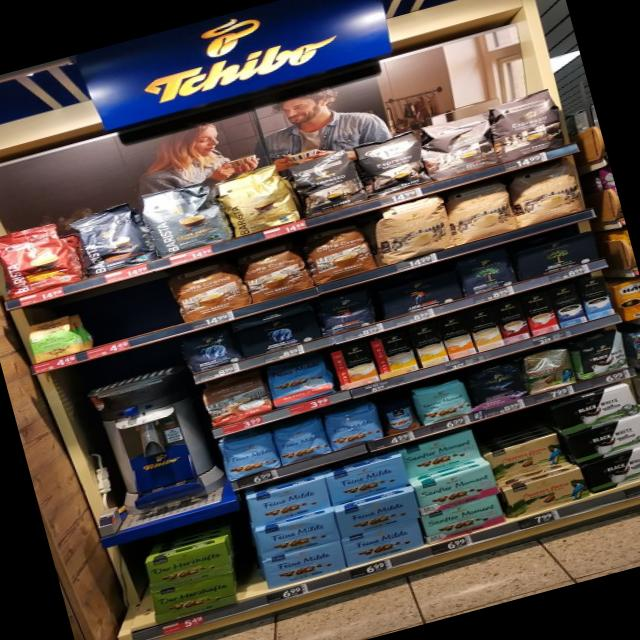AB Bohne: (176, 326, 242, 375)
AB Gemahlen: (233, 308, 325, 360)
Athiopien Bohne: (20, 312, 86, 365)
BM Bohne: (454, 245, 518, 298)
BM Gemahlen: (512, 230, 604, 280)
BW Bohne: (570, 328, 632, 380)
BW Gemahlen: (544, 382, 640, 437), (564, 412, 640, 466), (582, 442, 640, 493)
Barista CB: (211, 160, 304, 240)
Barista CC: (134, 174, 233, 261)
Barista Espresso: (64, 200, 154, 280)
Barista Kolumbien: (0, 217, 83, 300)
C Fino Bohne: (464, 358, 530, 412)
CC Mild: (506, 154, 590, 228), (372, 192, 457, 264), (442, 176, 520, 247)
CC Vollmundig: (198, 372, 274, 428)
CC Vollmundig 36 Pads: (164, 255, 250, 322), (300, 217, 380, 286), (234, 237, 314, 305)
Colombia BB Bohne: (520, 343, 580, 396)
Colombia BB Gemahlen: (504, 468, 589, 518), (483, 433, 568, 482)
Empty Shelf: (78, 283, 181, 348)
Espresso Aromatisch: (419, 108, 502, 182), (488, 89, 568, 162)
Espresso Kraftig: (351, 126, 434, 200), (284, 147, 367, 220)
FM 36 Pads: (262, 351, 338, 409)
FM Bohne: (217, 428, 282, 482), (321, 400, 385, 452), (272, 414, 334, 466)
FM Gemahlen: (252, 508, 342, 562), (260, 540, 348, 591), (324, 455, 412, 506), (246, 476, 332, 526), (334, 488, 422, 536), (342, 518, 427, 566)
FM Instant: (379, 396, 421, 436)
Herzhatfe Mundig: (142, 539, 234, 593), (150, 570, 240, 624)
LG Bohne: (318, 285, 382, 336)
LG Gemahlen: (372, 266, 466, 321)
SM Bohne: (412, 373, 474, 427)
SM Gemahlen: (417, 494, 507, 544), (416, 464, 500, 514), (400, 430, 481, 478)
Simo CCMild: (371, 330, 418, 380)
Simo CCMild bigpack: (410, 321, 450, 368)
Simo CCVollmundig: (330, 342, 380, 392)
Simo CCVollmundig bigpack: (438, 314, 477, 361)
Simo Decaff: (466, 306, 504, 352)
Simo Es Brazil: (520, 290, 559, 336)
Simo Es Caramel: (493, 298, 531, 344)
Simo Es Kraft: (548, 282, 588, 329)
Simo Es Vanilla: (577, 274, 615, 322)
